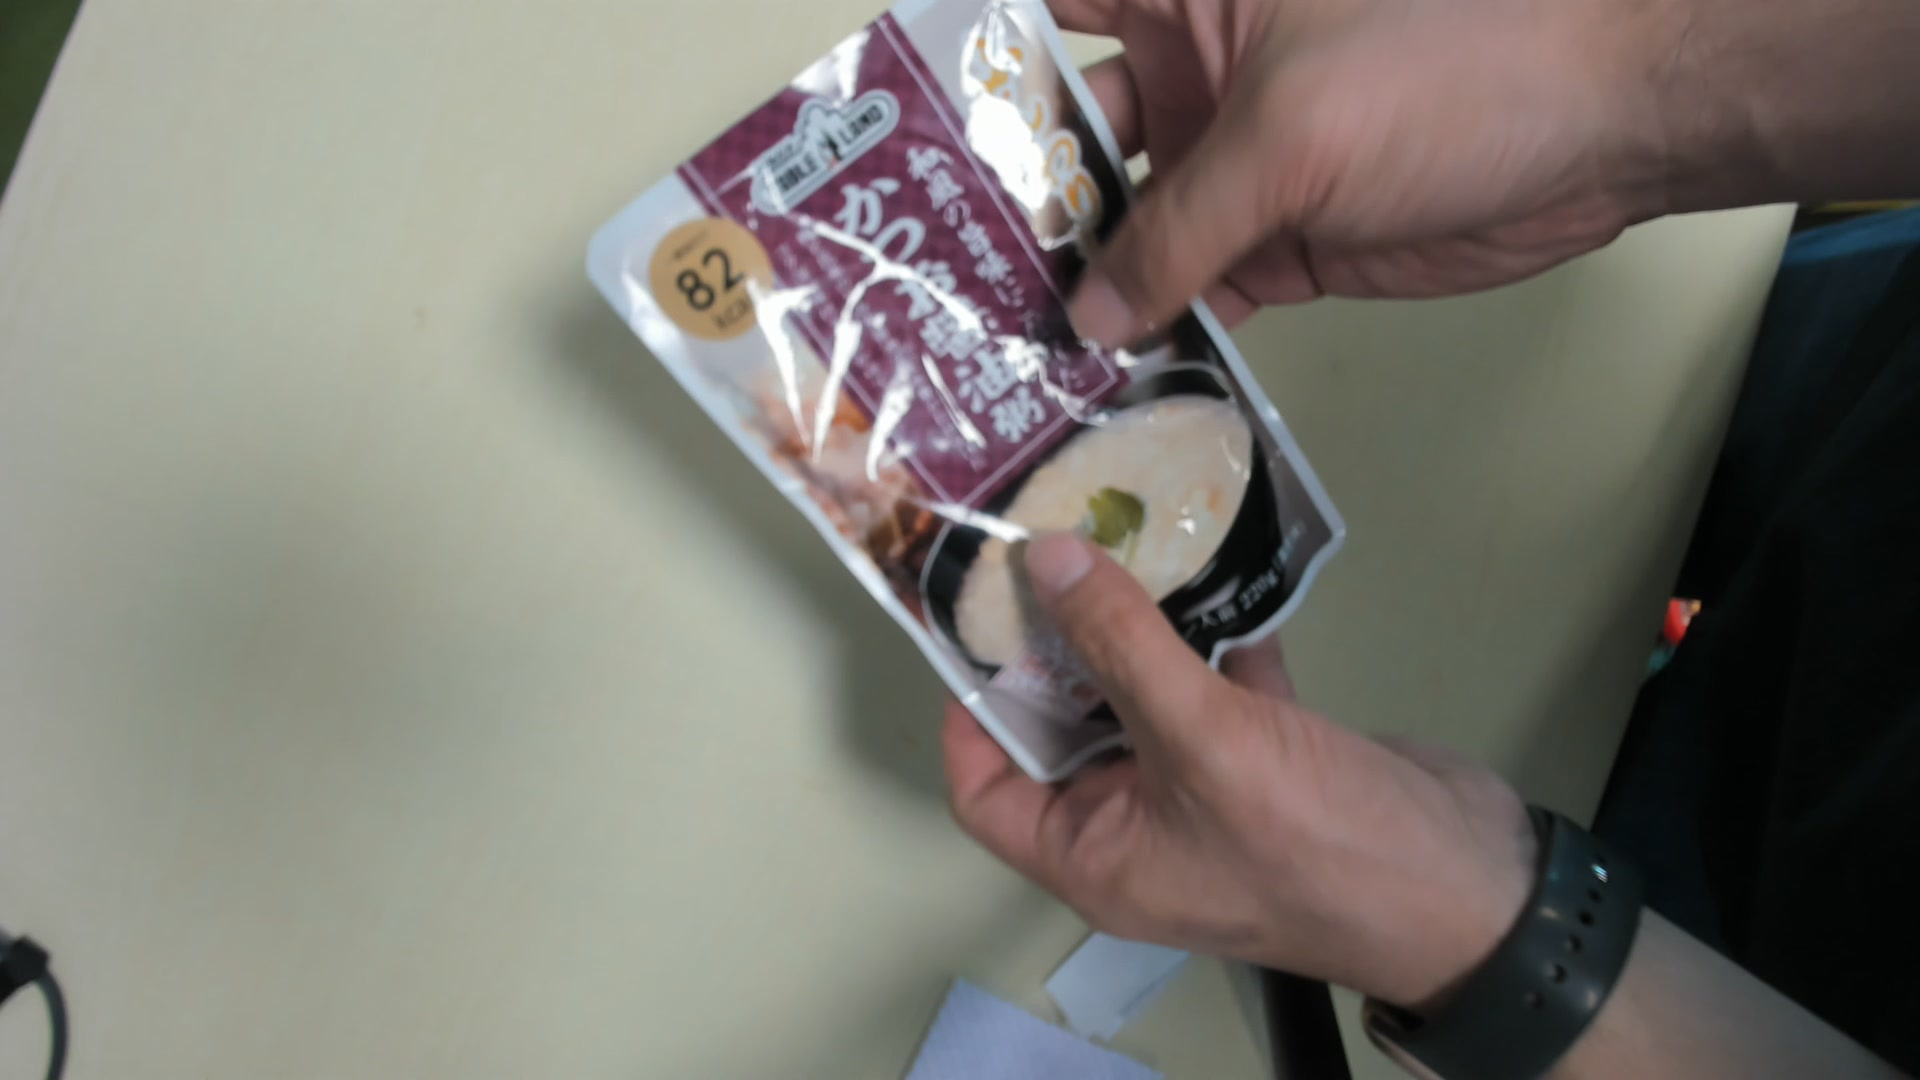InstantMeals_200_299g_NonHalal_NonHealthy: (588, 3, 1356, 808)
